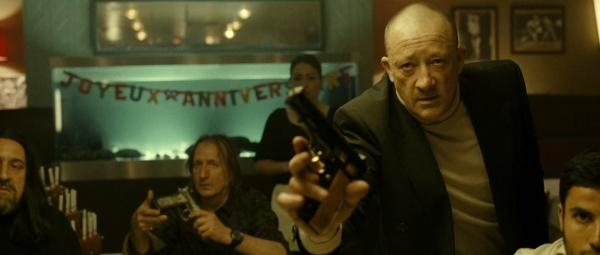Gun: (285, 88, 367, 235), (152, 189, 200, 224)
